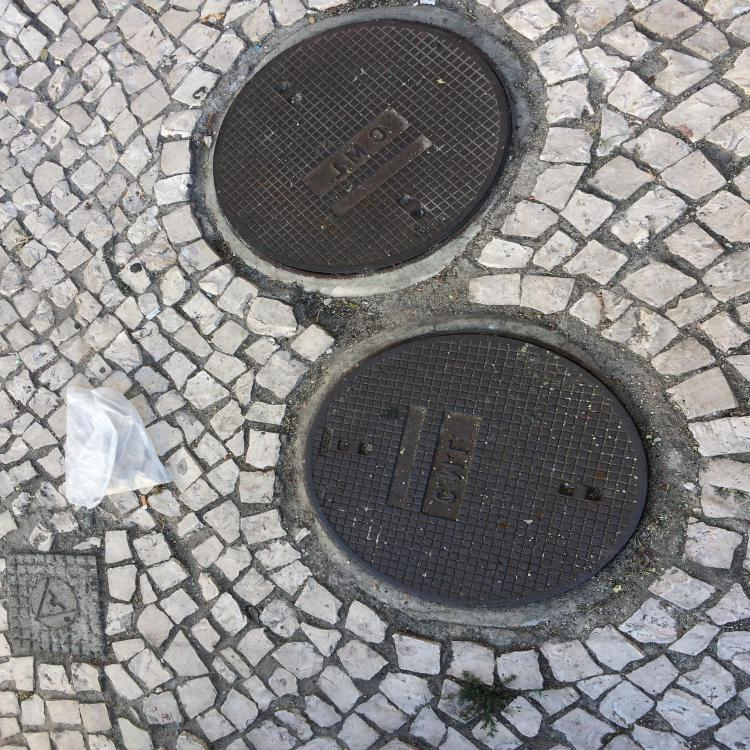Cigarette: (145, 308, 162, 320), (141, 495, 148, 509)
Plastic film: (66, 386, 174, 510)
